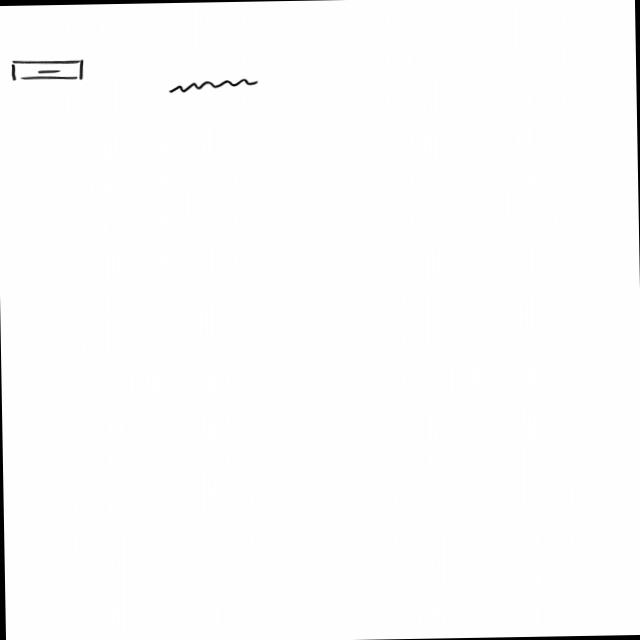icon-button: (6, 58, 84, 82)
text: (167, 76, 260, 94)
